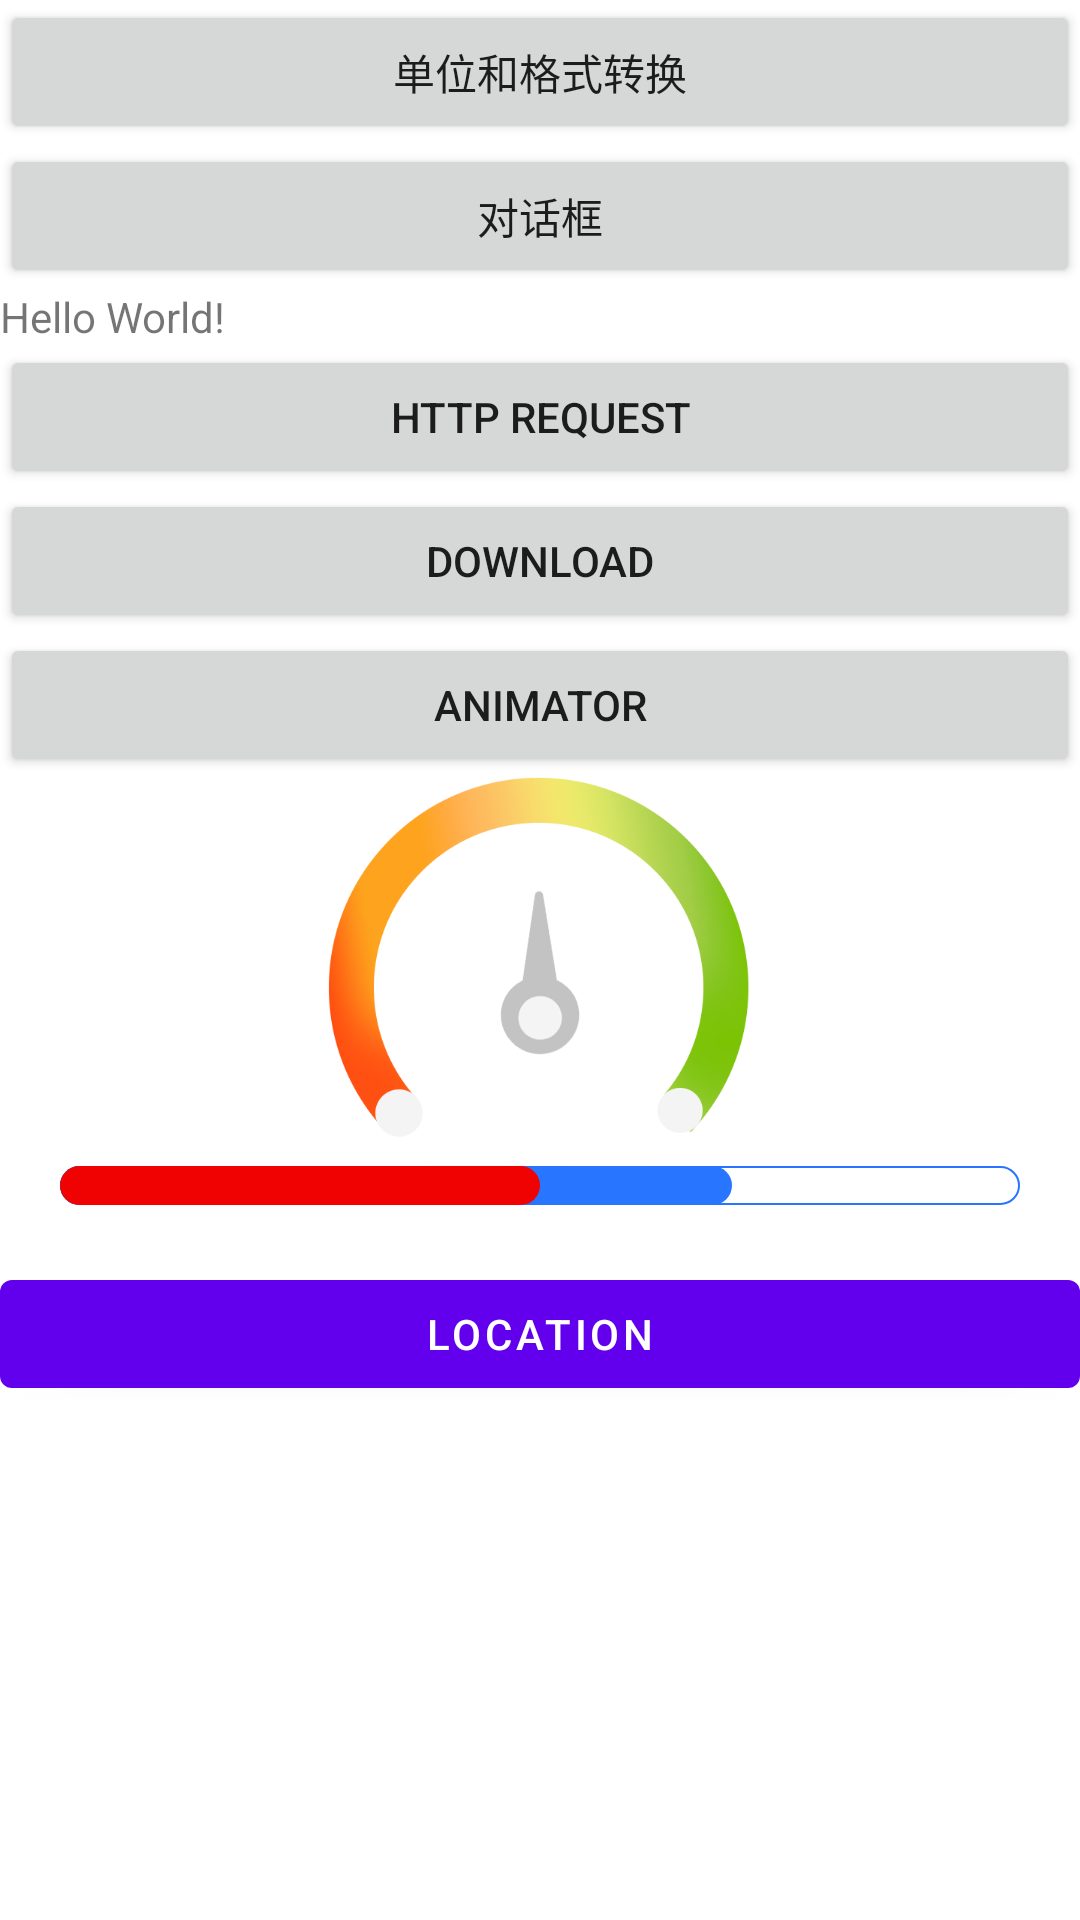

Where to tap for icons on this 1080x1920 app screen, as (x=x, y=y):
pointer: (x=540, y=972)
